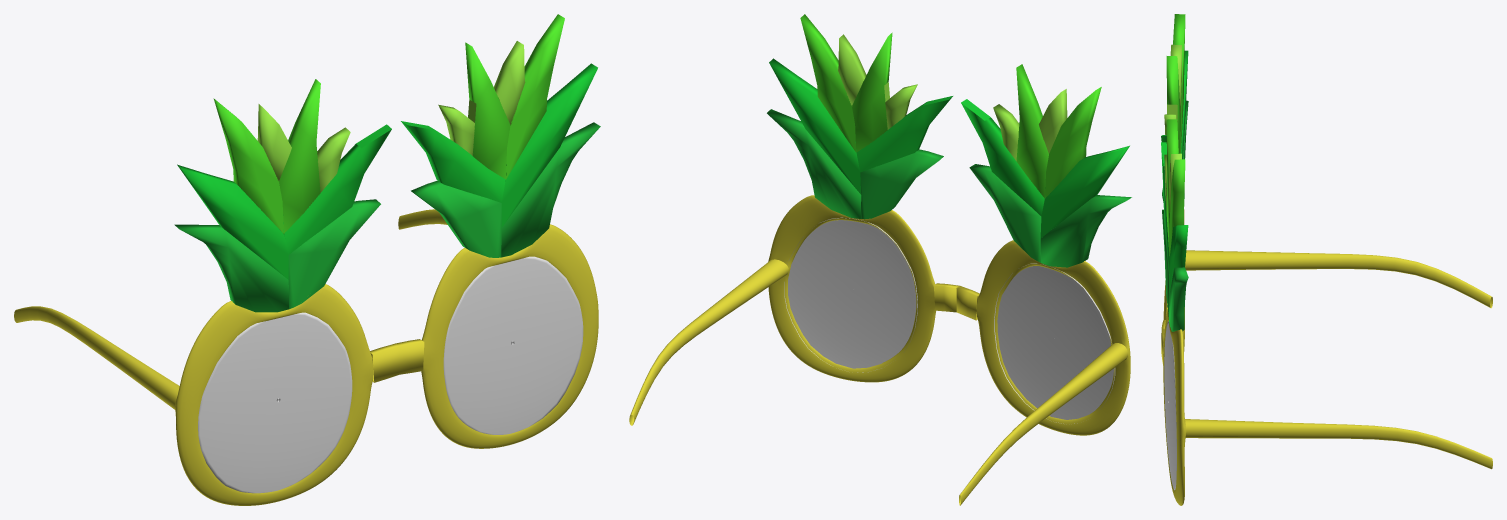
3 renders of one model, left to right at view 1: azimuth 30°, elevation 25°; view 2: azimuth 150°, elevation 25°; view 3: azimuth 270°, elevation 25°, orthographic. The views are drawn at different scales.
Parts seen in each view (by area): view 1: Circle.004, Circle.012, Circle.003, Circle.010; view 2: Circle.004, Circle.012, Circle.003, Circle.010; view 3: Circle.003, Circle.004, Circle.012.
Part boxes in pixels (<box>): Circle.004: <box>174,14,600,312</box>; Circle.012: <box>198,256,583,493</box>; Circle.003: <box>14,209,598,505</box>; Circle.010: <box>370,339,424,382</box>; Circle.004: <box>767,14,1131,267</box>; Circle.012: <box>784,217,1115,423</box>; Circle.003: <box>629,195,1130,505</box>; Circle.010: <box>934,283,979,320</box>; Circle.003: <box>1163,209,1492,505</box>; Circle.004: <box>1161,14,1188,331</box>; Circle.012: <box>1164,321,1176,490</box>.
Bounding box in the file's own units: 55.2 × 51.65 × 43.57.
